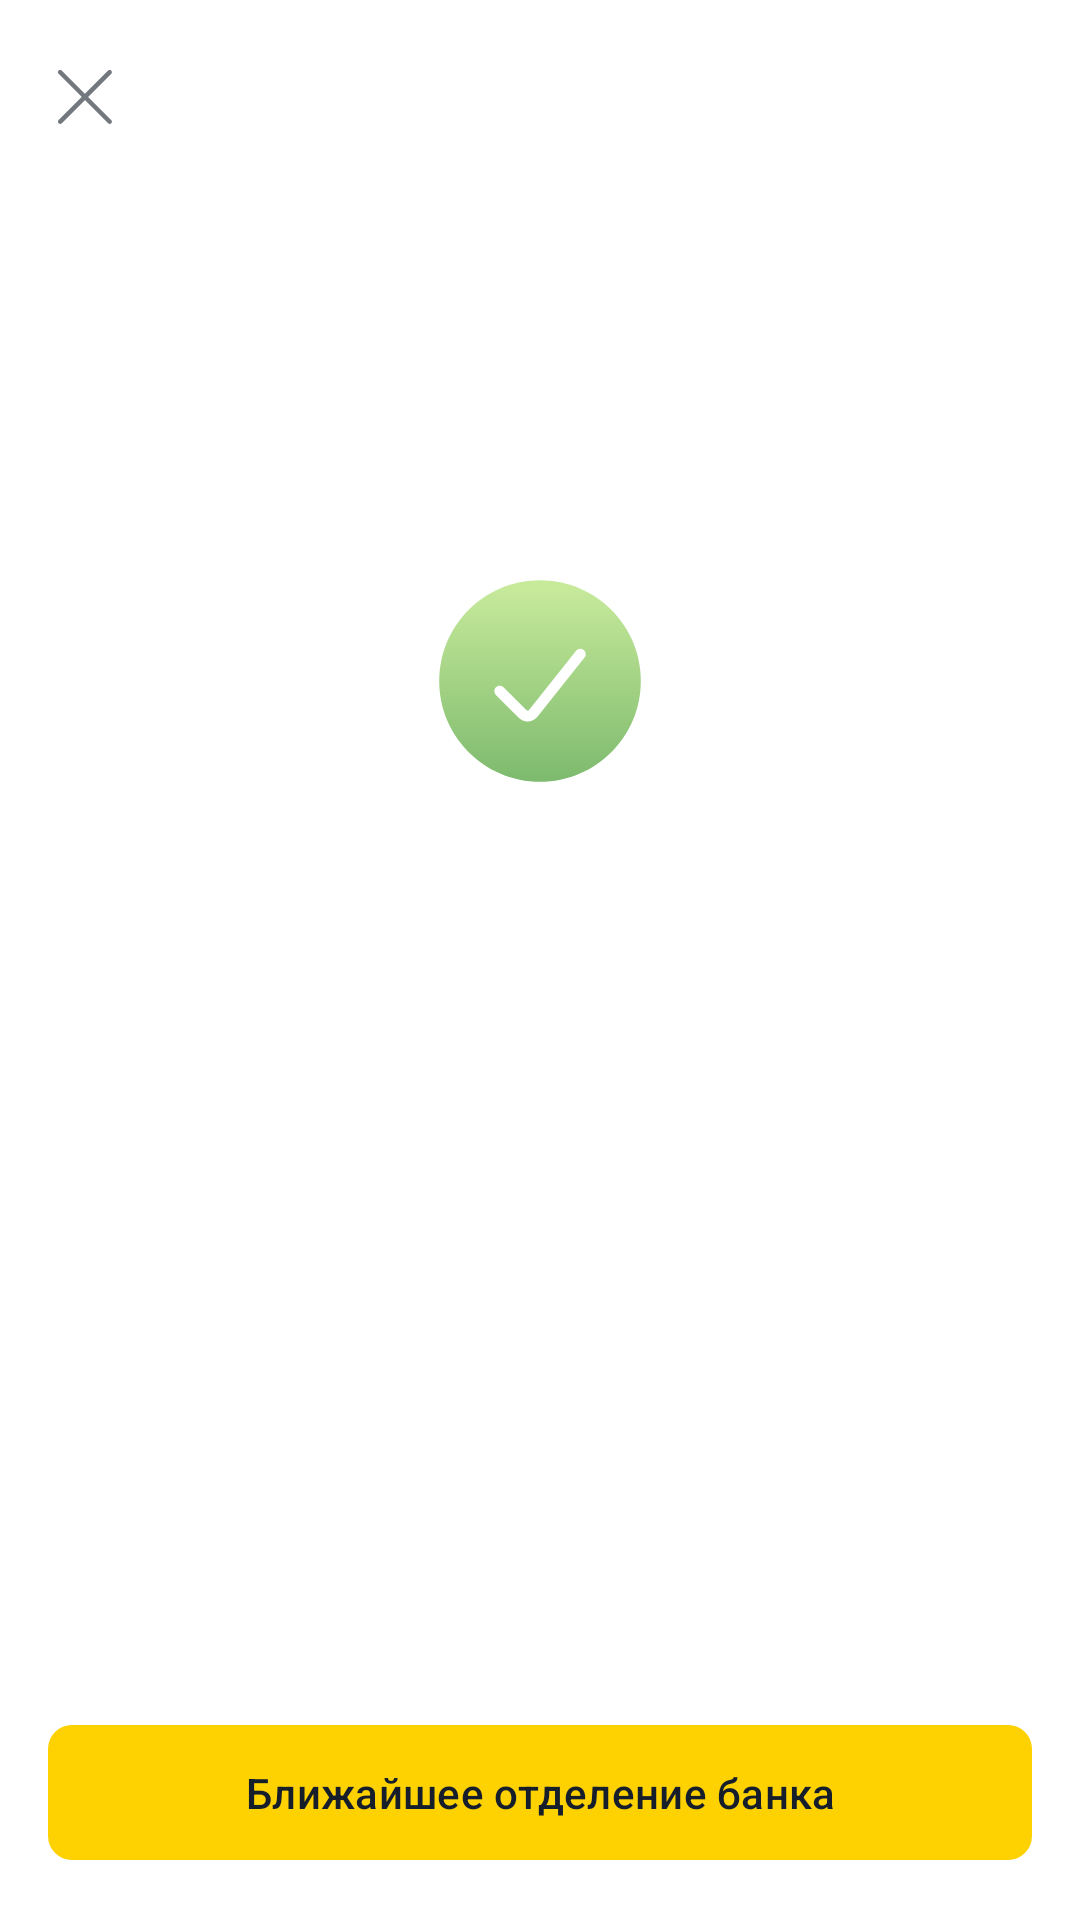

Icon click points for this 1080×1920 phone screenshot, format [x,y]:
success: [540,681]
